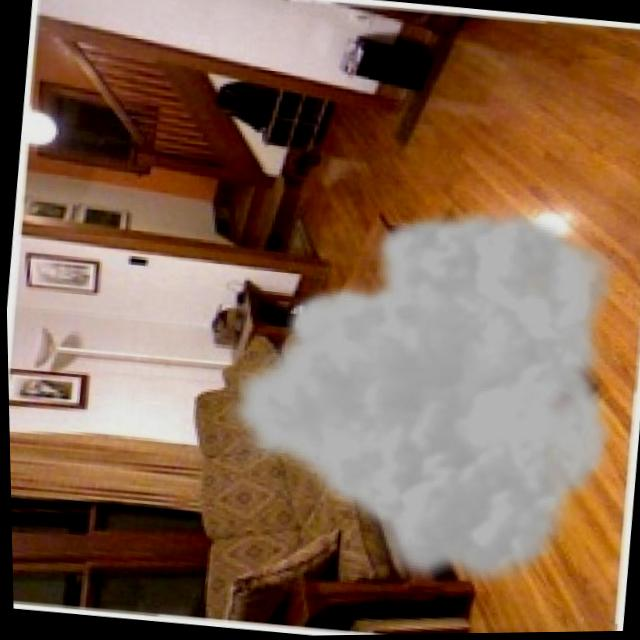no_helmet: (206, 179, 633, 609)
